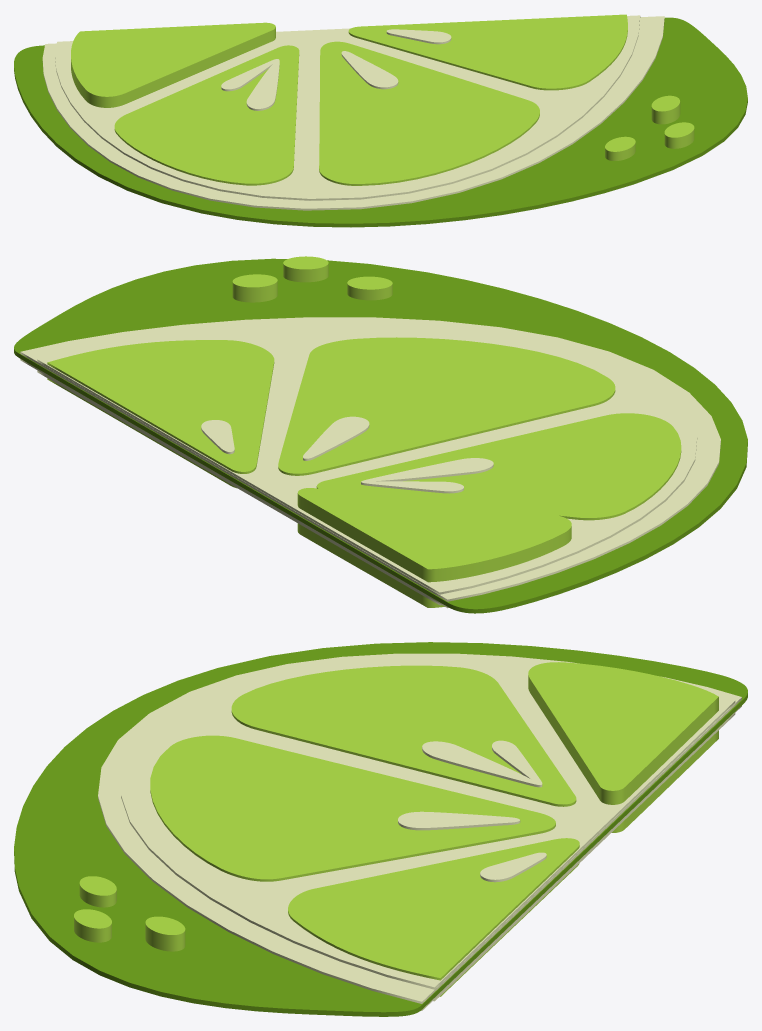
Rendered from emoji_u1f34b_200d_1f7e9.glb.
3 renders of one model, top to bottom at view 1: azimuth 30°, elevation 25°; view 2: azimuth 150°, elevation 25°; view 3: azimuth 270°, elevation 25°, orthographic. The views are drawn at different scales.
Visible parts, largest first — view 1: emoji_u1f34b_200d_1f7e9; view 2: emoji_u1f34b_200d_1f7e9; view 3: emoji_u1f34b_200d_1f7e9.
Part boxes in pixels (x1,y1,x2,y2): emoji_u1f34b_200d_1f7e9: (14, 14, 747, 227); emoji_u1f34b_200d_1f7e9: (14, 256, 747, 613); emoji_u1f34b_200d_1f7e9: (14, 642, 747, 1016).
Bounding box in the file's own units: 0.0339 × 0.0018 × 0.0284.
